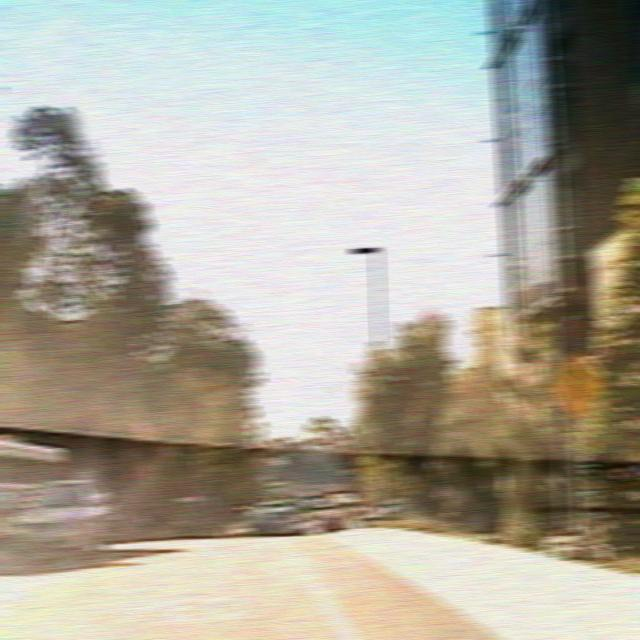pedestrianCrossing: (549, 348, 606, 421)
